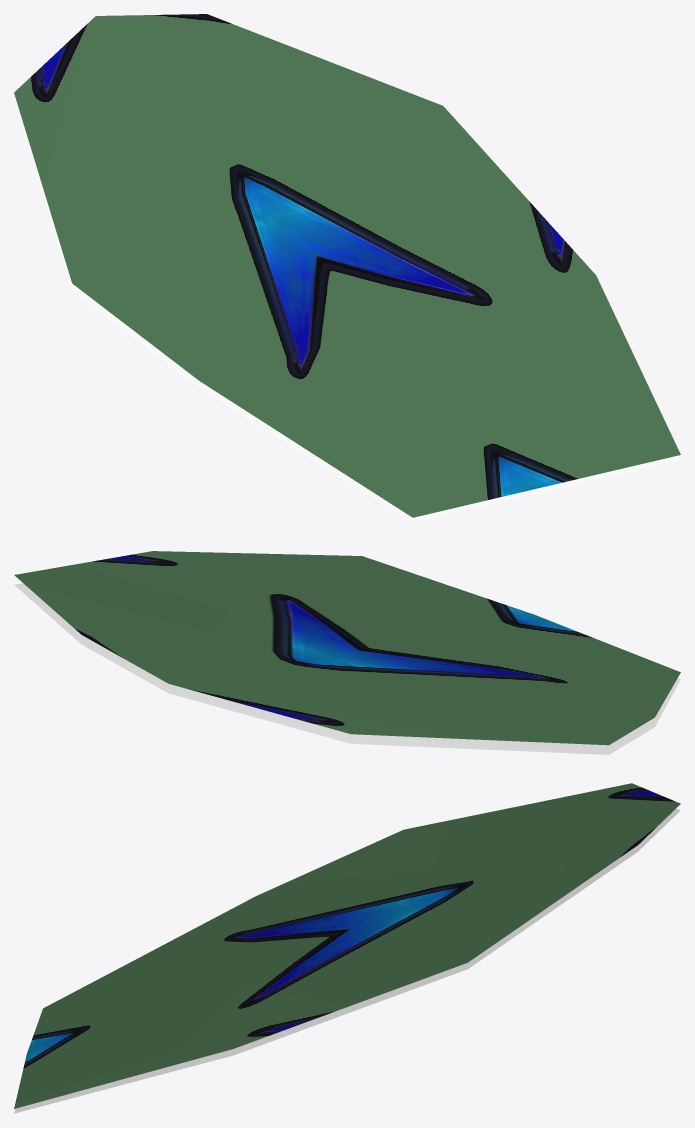
The model's file is zipper_arrow_shortcut.glb.
3 renders of one model, top to bottom at view 1: azimuth 30°, elevation 25°; view 2: azimuth 150°, elevation 25°; view 3: azimuth 270°, elevation 25°, orthographic. The views are drawn at different scales.
Visible parts, largest first — view 1: zipper_mansion.png__, stktex_generic_WoodB.png__; view 2: zipper_mansion.png__, stktex_generic_WoodB.png__; view 3: zipper_mansion.png__, stktex_generic_WoodB.png__.
Part boxes in pixels (x1,y1,x2,y2): zipper_mansion.png__: (14, 14, 680, 517); stktex_generic_WoodB.png__: (14, 98, 680, 522); zipper_mansion.png__: (14, 551, 680, 745); stktex_generic_WoodB.png__: (14, 583, 680, 754); zipper_mansion.png__: (14, 783, 680, 1108); stktex_generic_WoodB.png__: (14, 808, 680, 1113).
Bounding box in the file's own units: 12.42 × 6.72 × 18.19.
2 materials, 1 textured.
